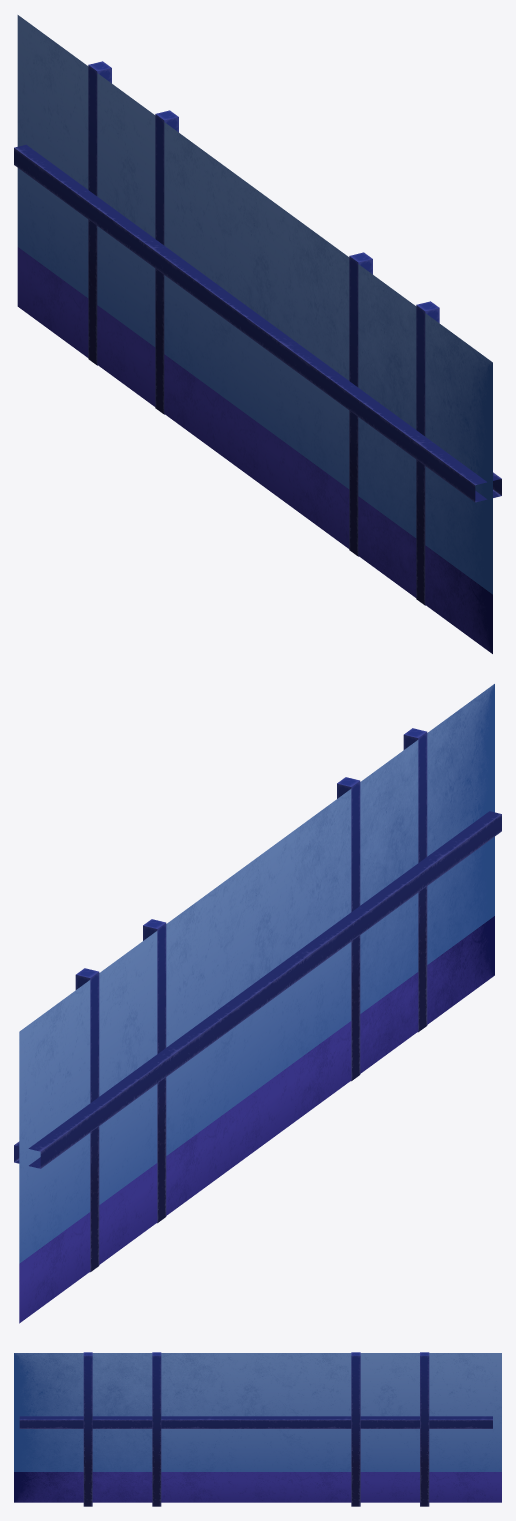
The model's file is SM_Wall1_V2.fbx.
The picture shows the model from 3 angles, top to bottom: view 1: azimuth 30°, elevation 25°; view 2: azimuth 150°, elevation 25°; view 3: azimuth 270°, elevation 25°; orthographic projection. The views are drawn at different scales.
Parts seen in each view (by area): view 1: SM_WallBase, SM_WallDoorBG, SM_HorizontalWoodenBeam, SM_VerticalWoodenBeam, SM_VerticalWoodenBeam1, SM_VerticalWoodenBeam2, SM_VerticalWoodenBeam3; view 2: SM_WallBase, SM_WallDoorBG, SM_HorizontalWoodenBeam, SM_VerticalWoodenBeam3, SM_VerticalWoodenBeam, SM_VerticalWoodenBeam1, SM_VerticalWoodenBeam2; view 3: SM_WallBase, SM_WallDoorBG, SM_HorizontalWoodenBeam, SM_VerticalWoodenBeam, SM_VerticalWoodenBeam1, SM_VerticalWoodenBeam2, SM_VerticalWoodenBeam3.
Part boxes in pixels (x1,y1,x2,y2): SM_WallBase: (17, 15, 492, 653); SM_WallDoorBG: (164, 275, 349, 548); SM_HorizontalWoodenBeam: (14, 144, 501, 502); SM_VerticalWoodenBeam: (416, 301, 439, 605); SM_VerticalWoodenBeam1: (349, 252, 372, 556); SM_VerticalWoodenBeam2: (155, 110, 178, 414); SM_VerticalWoodenBeam3: (88, 61, 111, 365); SM_WallBase: (19, 684, 494, 1323); SM_WallDoorBG: (166, 942, 351, 1215); SM_HorizontalWoodenBeam: (14, 811, 501, 1168); SM_VerticalWoodenBeam3: (75, 968, 99, 1272); SM_VerticalWoodenBeam: (403, 728, 427, 1032); SM_VerticalWoodenBeam1: (337, 777, 360, 1081); SM_VerticalWoodenBeam2: (143, 919, 166, 1223); SM_WallBase: (14, 1353, 501, 1502); SM_WallDoorBG: (161, 1429, 351, 1502); SM_HorizontalWoodenBeam: (19, 1416, 492, 1428); SM_VerticalWoodenBeam: (83, 1352, 92, 1506); SM_VerticalWoodenBeam1: (152, 1352, 161, 1506); SM_VerticalWoodenBeam2: (351, 1352, 360, 1506); SM_VerticalWoodenBeam3: (420, 1352, 429, 1506).
Bounding box in the file's own units: 68.12 × 712 × 2086.
